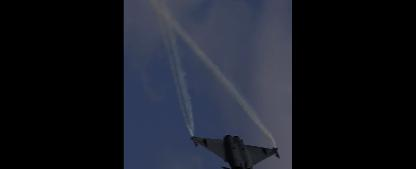RQ4: (191, 136, 281, 168)
